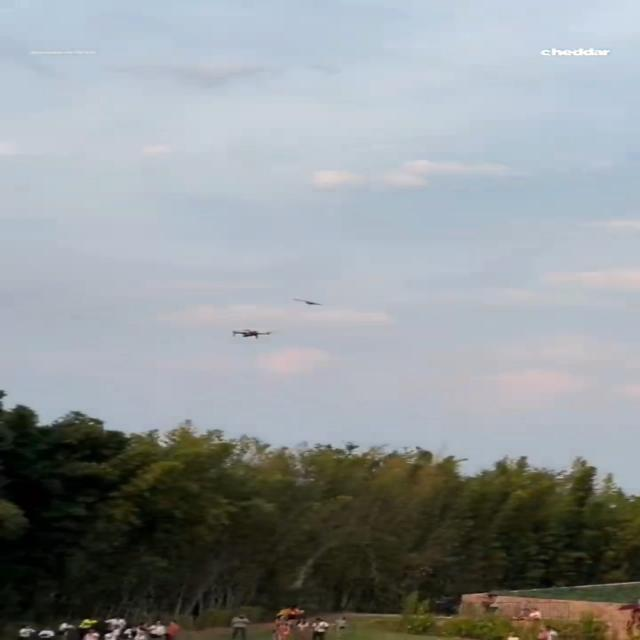bird: (292, 297, 322, 305)
drone: (231, 328, 271, 338)
